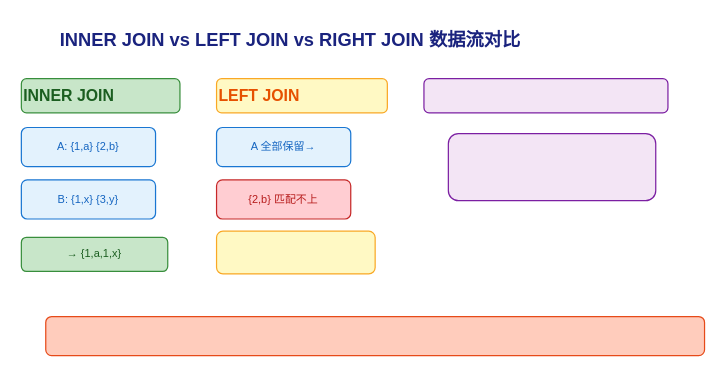
This 726x377 diagram has some shape labels left out. Here are the shapes that lost their labels. From the top down, the centre of each, then its label:
the point at 545,95: RIGHT JOIN = 换位 LEFT
the point at 551,166: A RIGHT JOIN B = B LEFT JOIN A 很少用，直接写成 LEFT
the point at 295,252: → {1,a,1,x} → {2,b,NULL,NULL}
the point at 375,335: ⚠ LEFT JOIN 锁死驱动表 — 如果不需要保留左表不匹配行，改用 INNER JOIN 让优化器自由选驱动表
